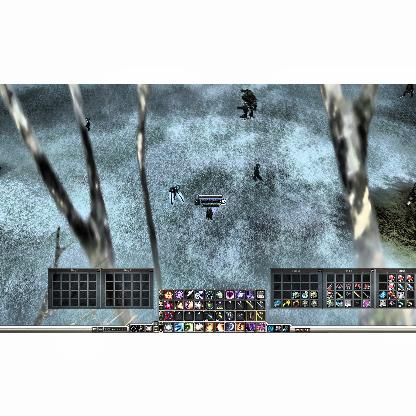caliana: (169, 184, 185, 204), (252, 164, 264, 180), (84, 118, 92, 130)
